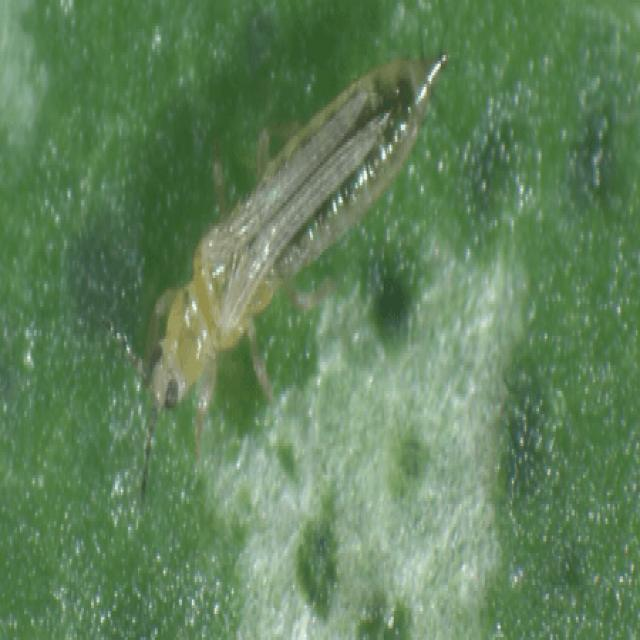Thrip-Adult-: (132, 22, 471, 427)
